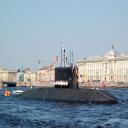submarine: (17, 68, 122, 104)
